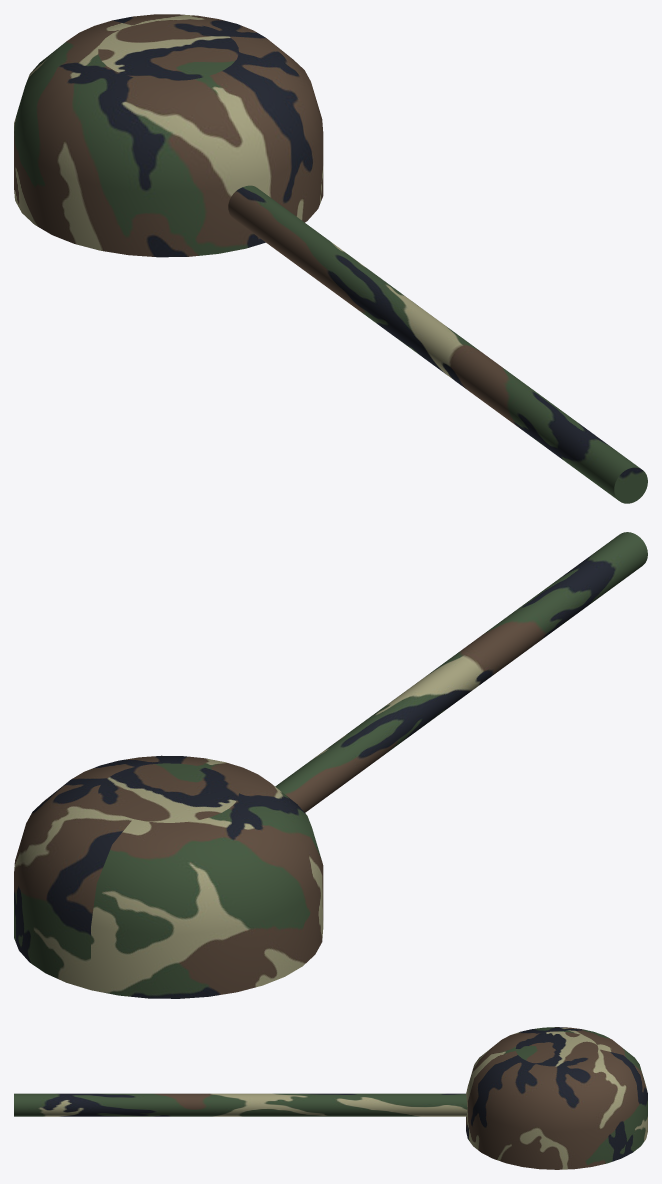
Rendered from turret.fbx.
3 views of the same model, one above another, from view 1: azimuth 30°, elevation 25°; view 2: azimuth 150°, elevation 25°; view 3: azimuth 270°, elevation 25° (orthographic). The views are drawn at different scales.
Parts seen in each view (by area): view 1: Turret; view 2: Turret; view 3: Turret.
Boxes of the visible parts, x1,y1,x2,y2 form: Turret: (14, 14, 647, 503); Turret: (14, 532, 647, 998); Turret: (14, 1027, 647, 1169).
Size of the model in its own units: 100 by 50 by 349.
Materials: 1 (1 with a texture image).
